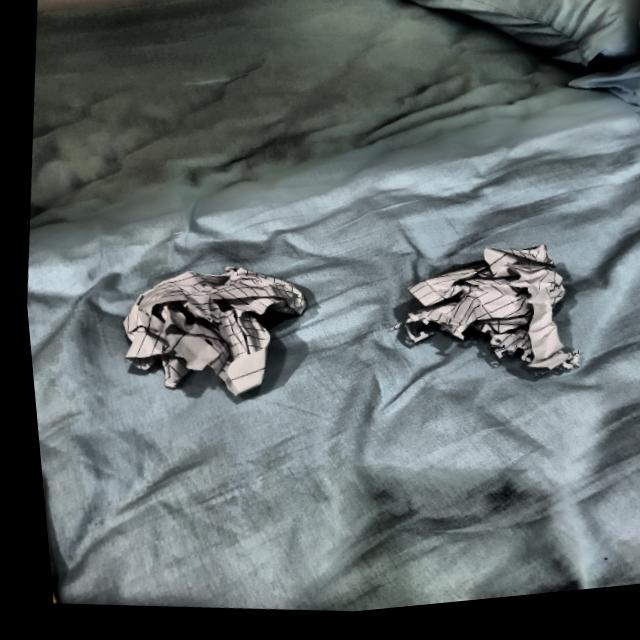Paper: (107, 252, 313, 417), (382, 243, 588, 395)
